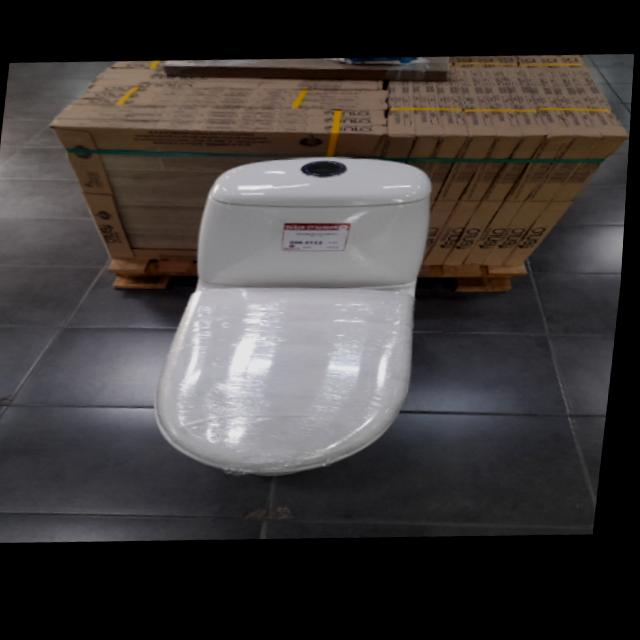toilet: (152, 146, 442, 494)
